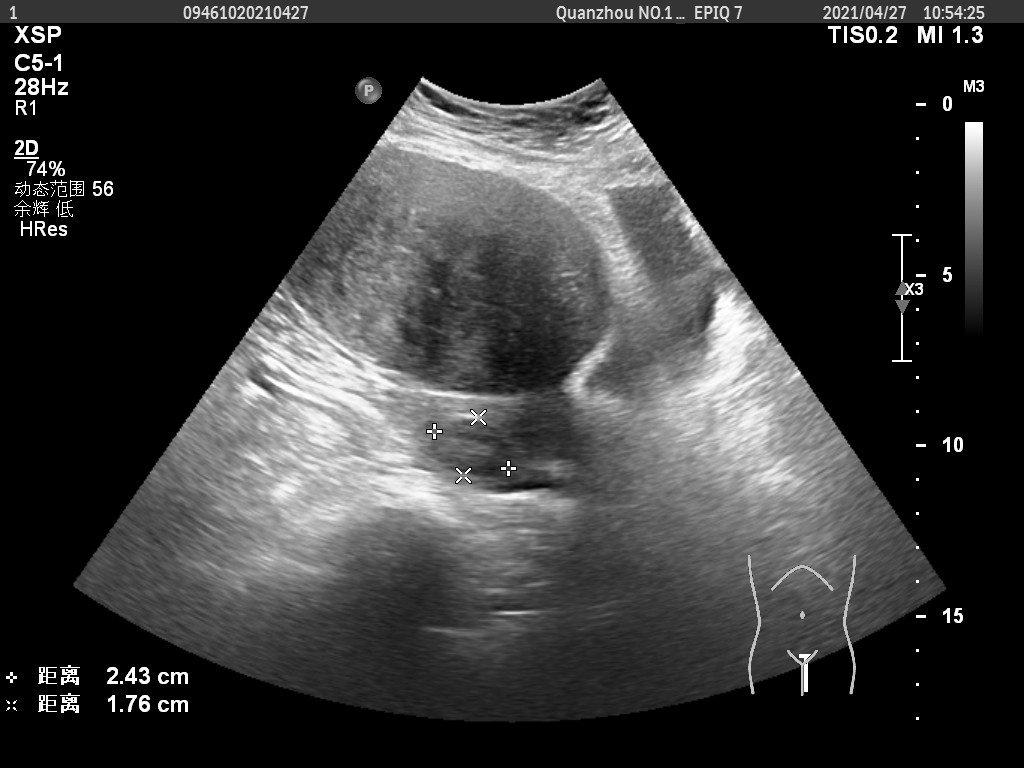肌瘤: (436, 417, 515, 477)
